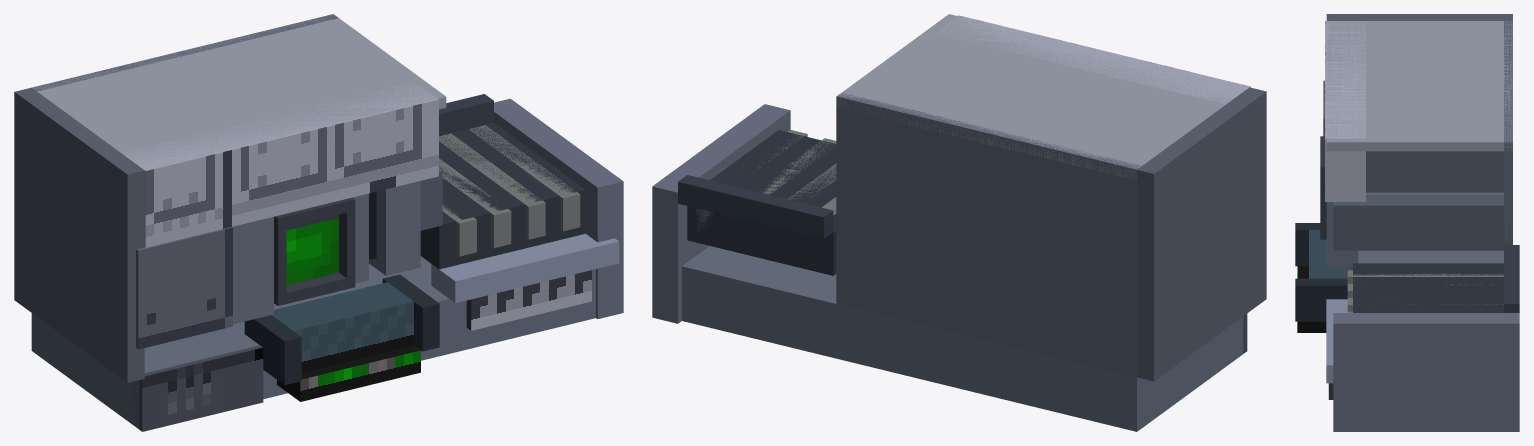
The model's file is CMU3DDropshipFabricatorCloud.glb.
3 views of the same model, side by side, from view 1: azimuth 30°, elevation 25°; view 2: azimuth 150°, elevation 25°; view 3: azimuth 270°, elevation 25° (orthographic). The views are drawn at different scales.
Parts seen in each view (by area): view 1: main cabinet roof, main cabinet left flank, three upper tooling covers original face, lower enclosed plinth, outfeed dark receiver bed, left large access door original face, outfeed end guard, left lower plinth markings original face, outfeed lower guard rail, three upper tooling covers, blue-green recessed product tray original face, middle cabinet fascia (+21 smaller); view 2: main cabinet rear, lower enclosed plinth, main cabinet roof, main cabinet left flank, outfeed dark receiver bed, outfeed end guard, three upper tooling covers, outfeed rear guard, separate outfeed roller 3; view 3: main cabinet roof, outfeed end guard, main cabinet right shoulder, outfeed dark receiver bed, main cabinet left flank, three upper tooling covers, lower enclosed plinth, main cabinet rear, protruding product tray right rim, blue-green recessed product tray, outfeed rear guard, slot right cover (+5 smaller).
Part boxes in pixels (bbox=[...]): main cabinet roof: bbox=[32, 14, 446, 169]; main cabinet left flank: bbox=[14, 87, 144, 382]; three upper tooling covers original face: bbox=[145, 99, 438, 247]; lower enclosed plinth: bbox=[31, 256, 595, 429]; outfeed dark receiver bed: bbox=[420, 123, 585, 269]; left large access door original face: bbox=[138, 227, 232, 349]; outfeed end guard: bbox=[494, 98, 623, 318]; left lower plinth markings original face: bbox=[142, 347, 263, 431]; outfeed lower guard rail: bbox=[431, 233, 619, 303]; three upper tooling covers: bbox=[121, 82, 438, 247]; blue-green recessed product tray original face: bbox=[294, 301, 413, 372]; middle cabinet fascia: bbox=[232, 216, 273, 324]; main cabinet rear: bbox=[836, 93, 1141, 377]; lower enclosed plinth: bbox=[682, 246, 1243, 431]; main cabinet roof: bbox=[836, 14, 1244, 180]; main cabinet left flank: bbox=[1137, 87, 1266, 381]; outfeed dark receiver bed: bbox=[687, 130, 836, 275]; outfeed end guard: bbox=[652, 104, 790, 323]; three upper tooling covers: bbox=[935, 15, 1249, 104]; outfeed rear guard: bbox=[678, 175, 833, 239]; separate outfeed roller 3: bbox=[730, 138, 836, 218]; main cabinet roof: bbox=[1326, 21, 1512, 151]; outfeed end guard: bbox=[1333, 313, 1519, 431]; main cabinet right shoulder: bbox=[1333, 195, 1512, 250]; outfeed dark receiver bed: bbox=[1353, 263, 1503, 312]; main cabinet left flank: bbox=[1326, 14, 1512, 192]; three upper tooling covers: bbox=[1325, 21, 1365, 201]; lower enclosed plinth: bbox=[1358, 192, 1503, 263]; main cabinet rear: bbox=[1504, 21, 1512, 244]; protruding product tray right rim: bbox=[1295, 278, 1347, 321]; blue-green recessed product tray: bbox=[1309, 230, 1352, 278]; outfeed rear guard: bbox=[1504, 245, 1519, 312]; slot right cover: bbox=[1326, 202, 1358, 267].
Size of the model in its own units: 1.81 by 0.912 by 0.855.
29 materials, 7 textured.
